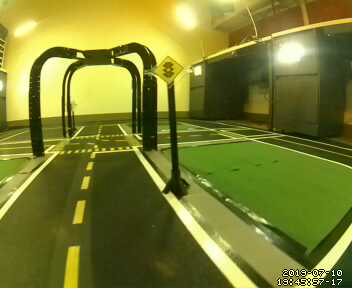Traffic light sign: (155, 53, 185, 84)
